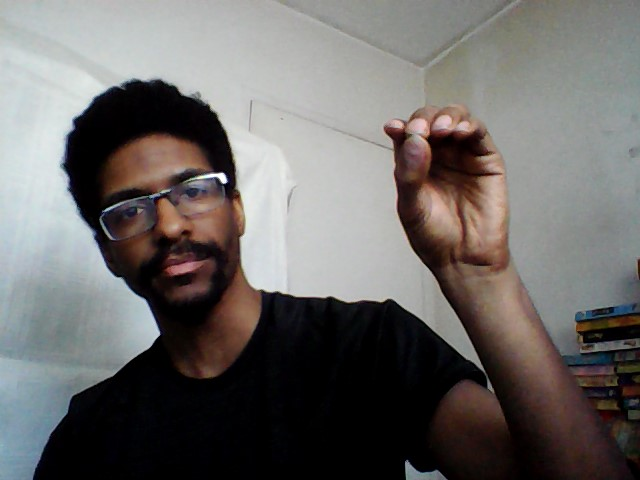o: (381, 99, 524, 267)
